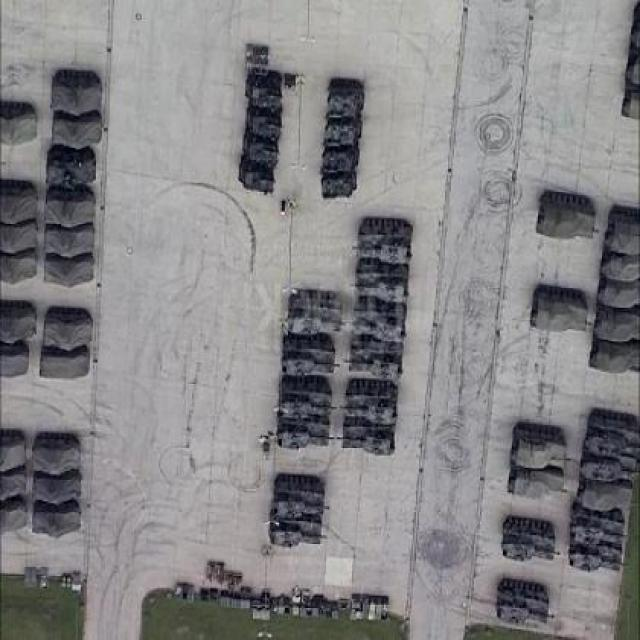tank: (532, 190, 600, 240), (509, 424, 570, 476), (530, 284, 593, 332), (496, 578, 555, 629), (351, 217, 414, 263), (277, 335, 340, 380), (339, 383, 400, 429), (288, 290, 349, 336), (585, 408, 640, 458), (344, 335, 403, 381), (501, 516, 560, 561), (569, 503, 629, 547), (580, 439, 640, 483), (348, 296, 406, 341), (350, 259, 410, 302), (279, 375, 337, 419), (273, 474, 330, 518), (336, 414, 397, 455), (270, 507, 328, 549), (276, 410, 334, 451), (43, 307, 93, 354), (45, 144, 97, 188), (29, 434, 82, 476), (38, 222, 95, 261), (50, 70, 104, 111), (588, 333, 640, 374), (568, 536, 627, 572), (577, 475, 636, 511), (45, 186, 95, 228), (30, 502, 81, 540), (43, 251, 94, 288), (51, 110, 103, 146), (0, 179, 38, 225), (38, 469, 81, 509), (327, 76, 366, 118), (597, 270, 640, 308), (0, 301, 37, 344), (606, 204, 639, 252), (1, 99, 37, 143), (593, 308, 640, 341), (244, 69, 283, 108), (601, 242, 639, 282), (241, 102, 280, 139), (0, 251, 38, 287), (238, 160, 274, 197), (0, 218, 38, 253), (324, 113, 360, 148), (240, 39, 274, 75), (242, 135, 279, 167), (320, 146, 354, 178), (322, 172, 356, 204), (618, 78, 640, 125)
